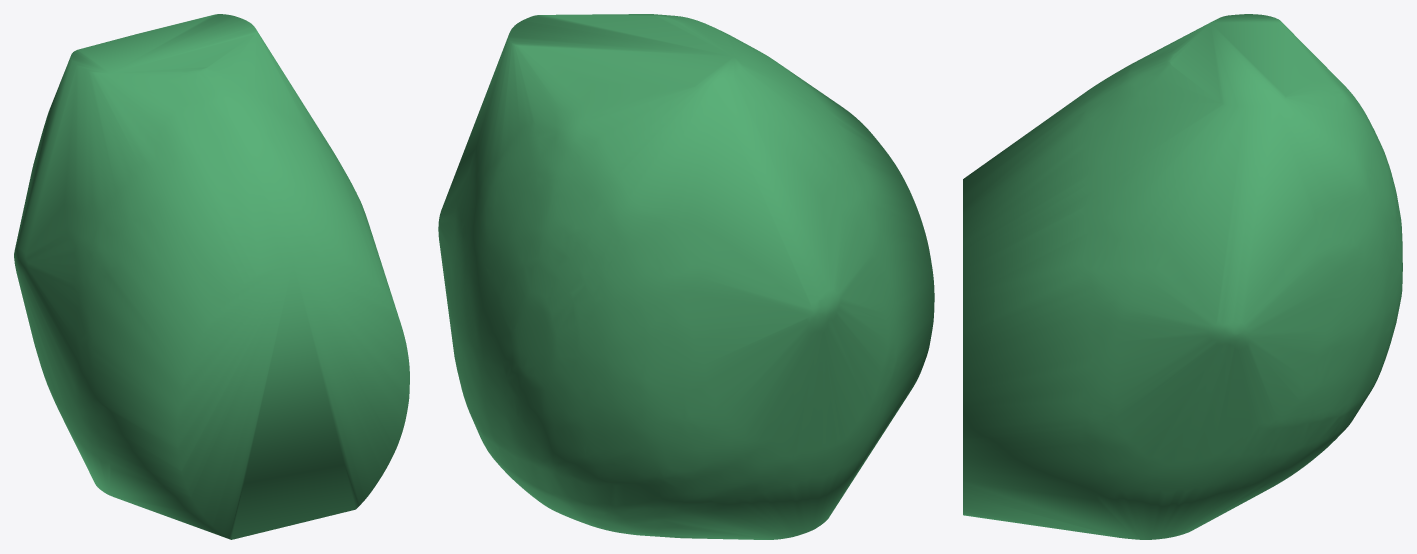
File: bee_toy_1_coacd_single_link_urdf_convex_piece_3.obj
3 views of the same model, side by side, from view 1: azimuth 30°, elevation 25°; view 2: azimuth 150°, elevation 25°; view 3: azimuth 270°, elevation 25° (orthographic). The views are drawn at different scales.
Size of the model in its own units: 0.225 by 0.2678 by 0.2529.
